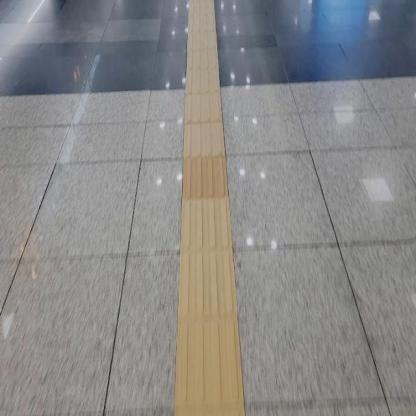podotacti: (174, 0, 245, 415)
